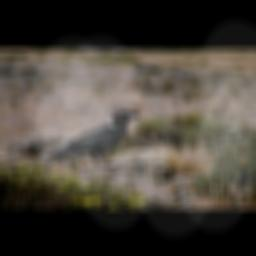Crow: (44, 109, 142, 169)
